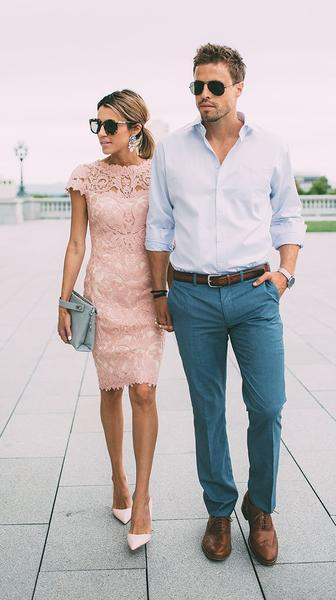sunglasses: (181, 79, 234, 96), (86, 117, 121, 136)
